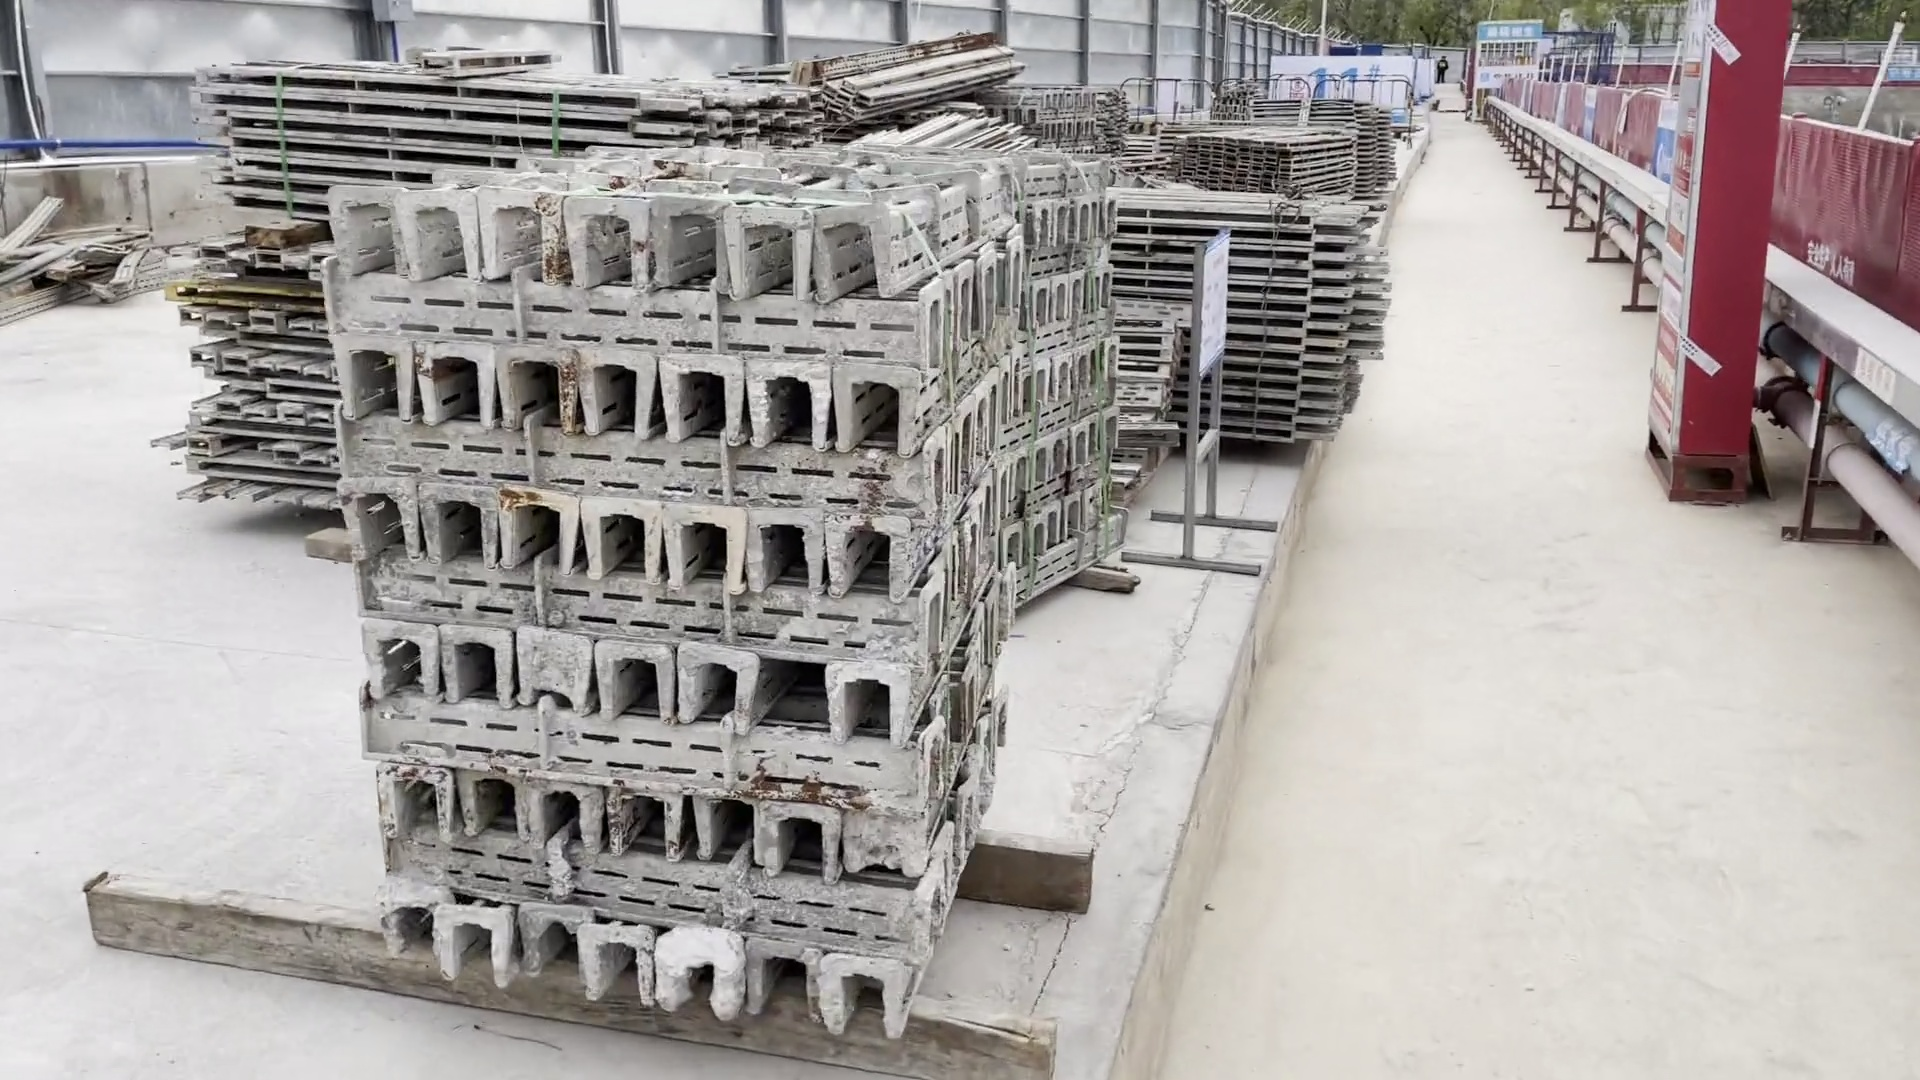fence: (1769, 115, 1920, 348), (1502, 76, 1664, 185)
person: (1433, 50, 1455, 89)
slogan: (1167, 211, 1235, 405), (1642, 96, 1688, 214), (1645, 82, 1676, 207), (1580, 81, 1610, 162)
vest: (1435, 60, 1451, 72)
